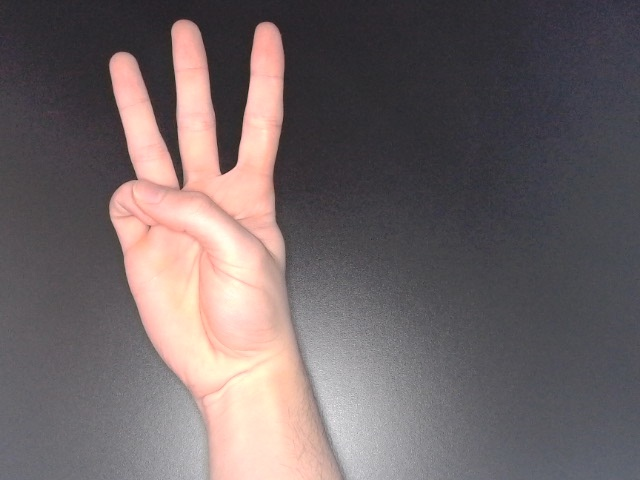w: (95, 12, 304, 405)
